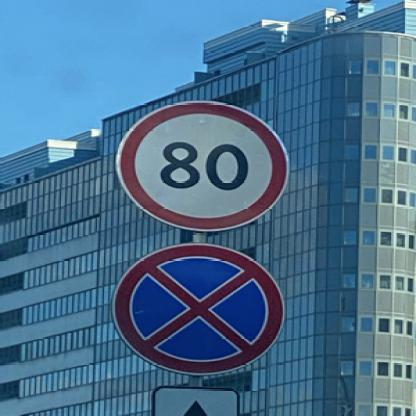speedlimit: (112, 99, 287, 231)
